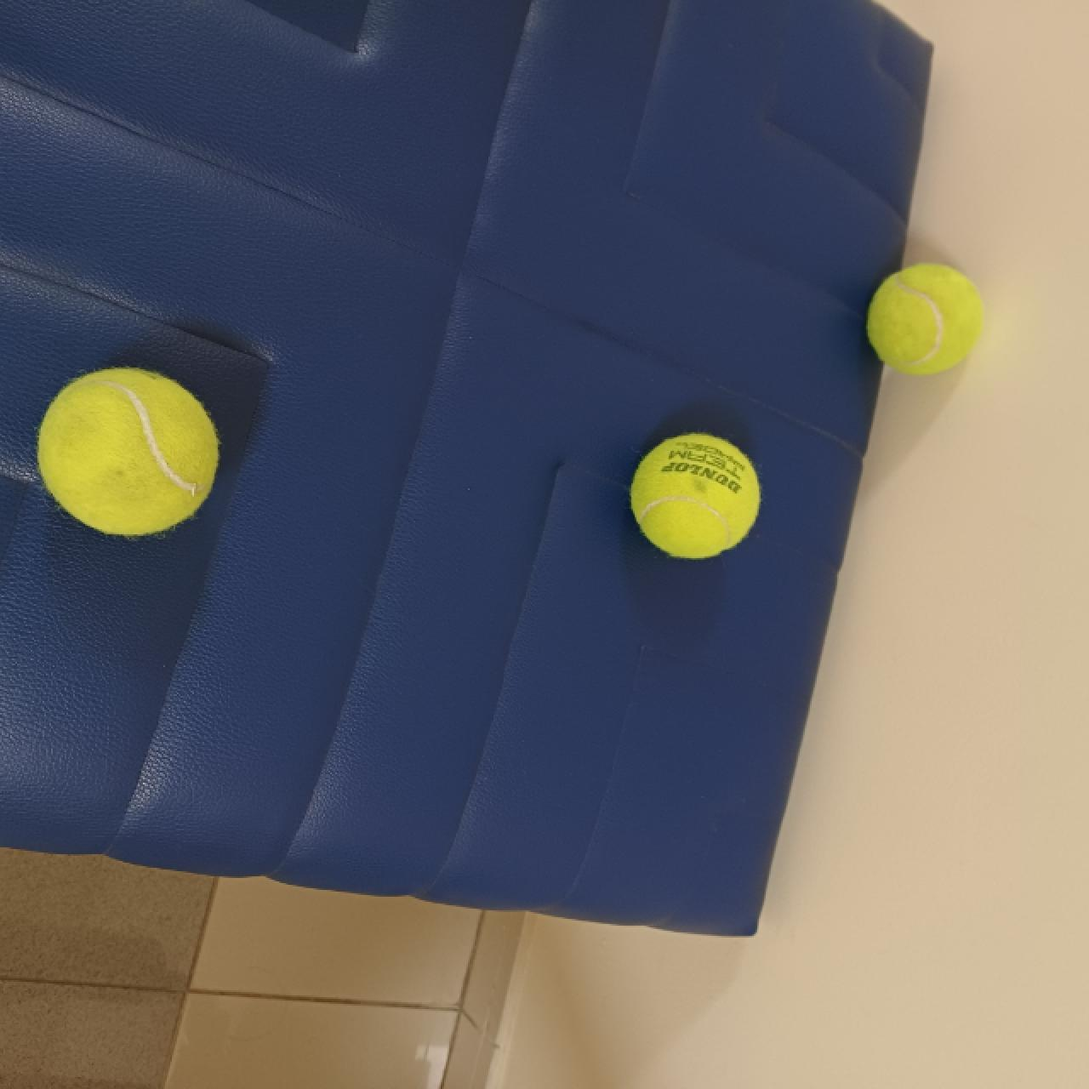tennis-ball: (34, 363, 221, 538), (628, 430, 763, 559), (865, 261, 984, 378)
